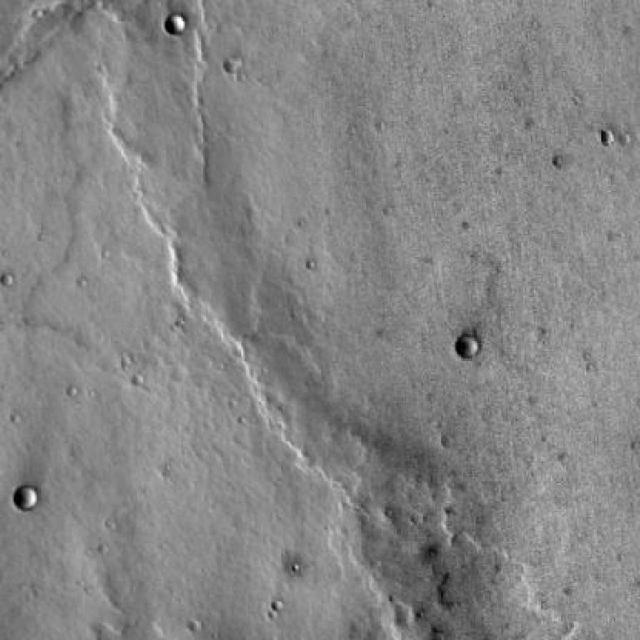crater: (456, 334, 482, 358), (14, 487, 37, 508), (164, 13, 184, 32)
